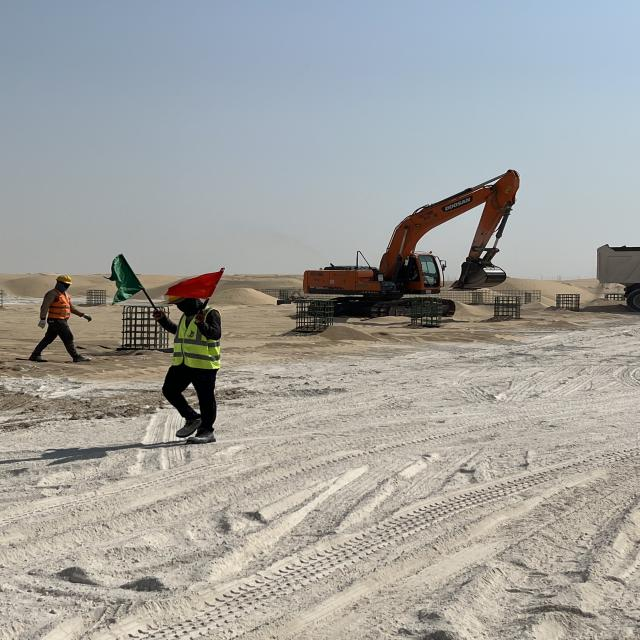Excavator: (300, 162, 523, 318)
